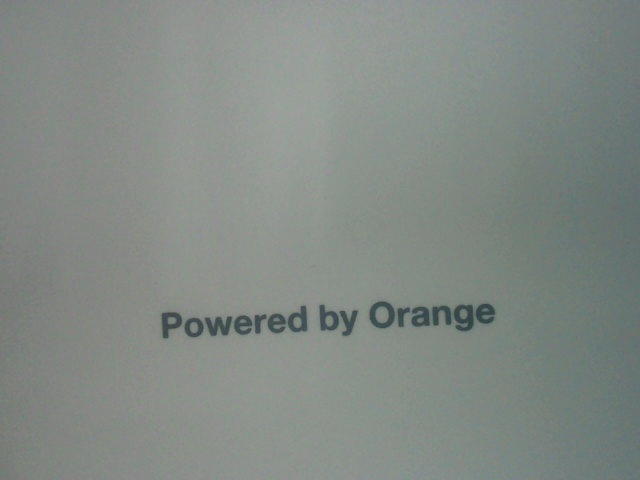AS_PowerByOrange: (132, 292, 507, 344)
